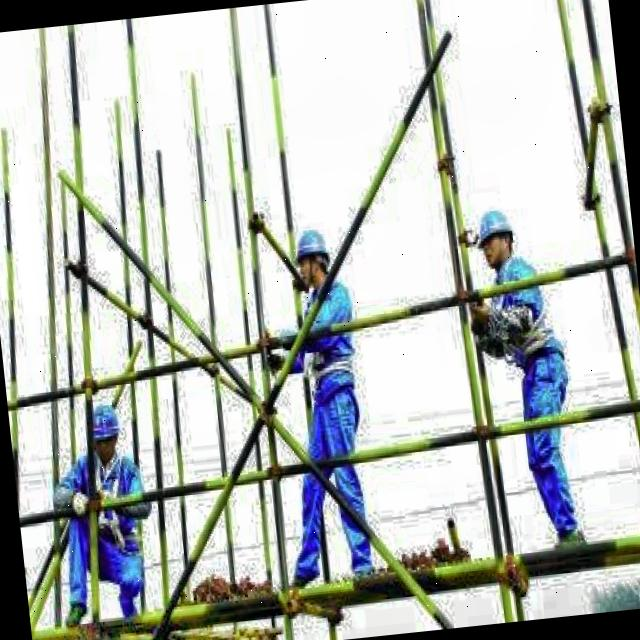helmet: (288, 218, 336, 296), (469, 202, 520, 270), (85, 392, 127, 462)
